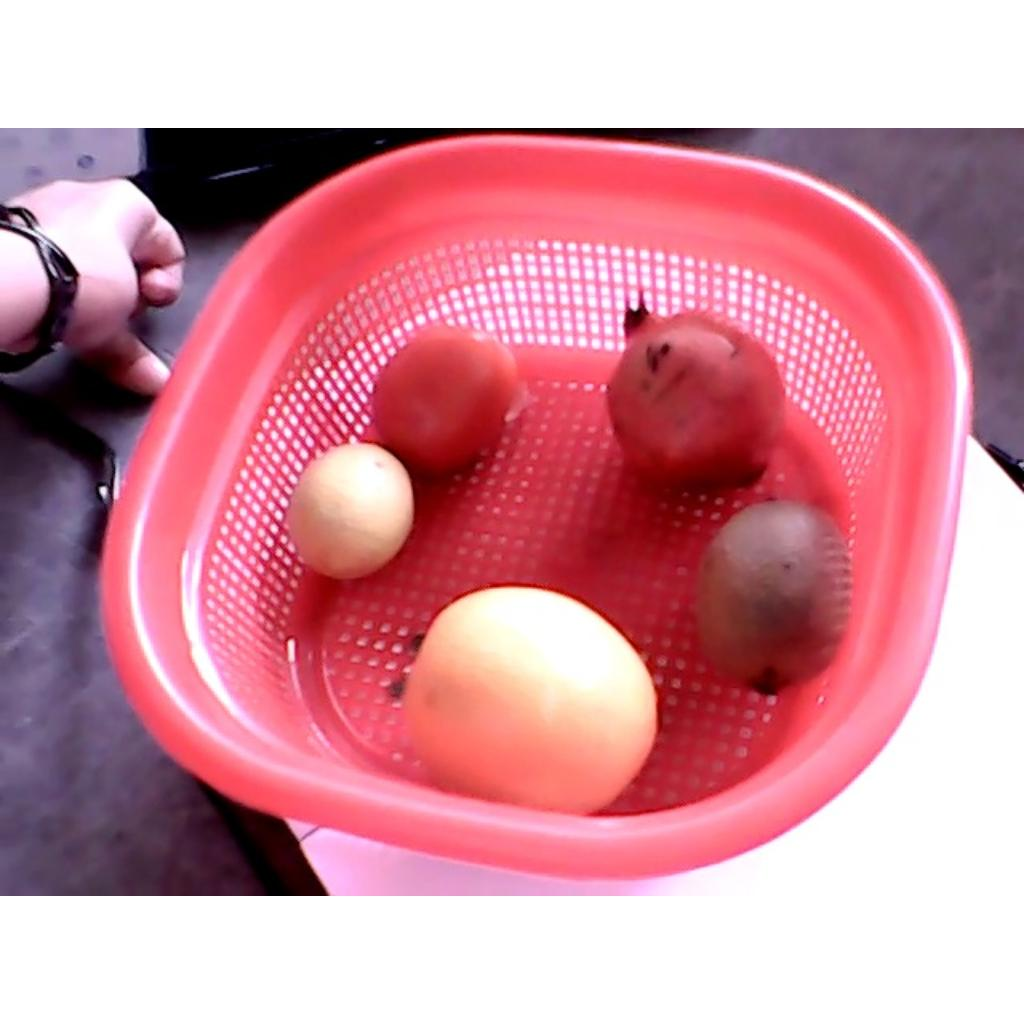kiwi: (697, 502, 851, 695)
lemon: (289, 443, 414, 579)
orange: (404, 583, 659, 815)
pomegranate: (607, 303, 784, 489)
tomato: (367, 324, 528, 476)
